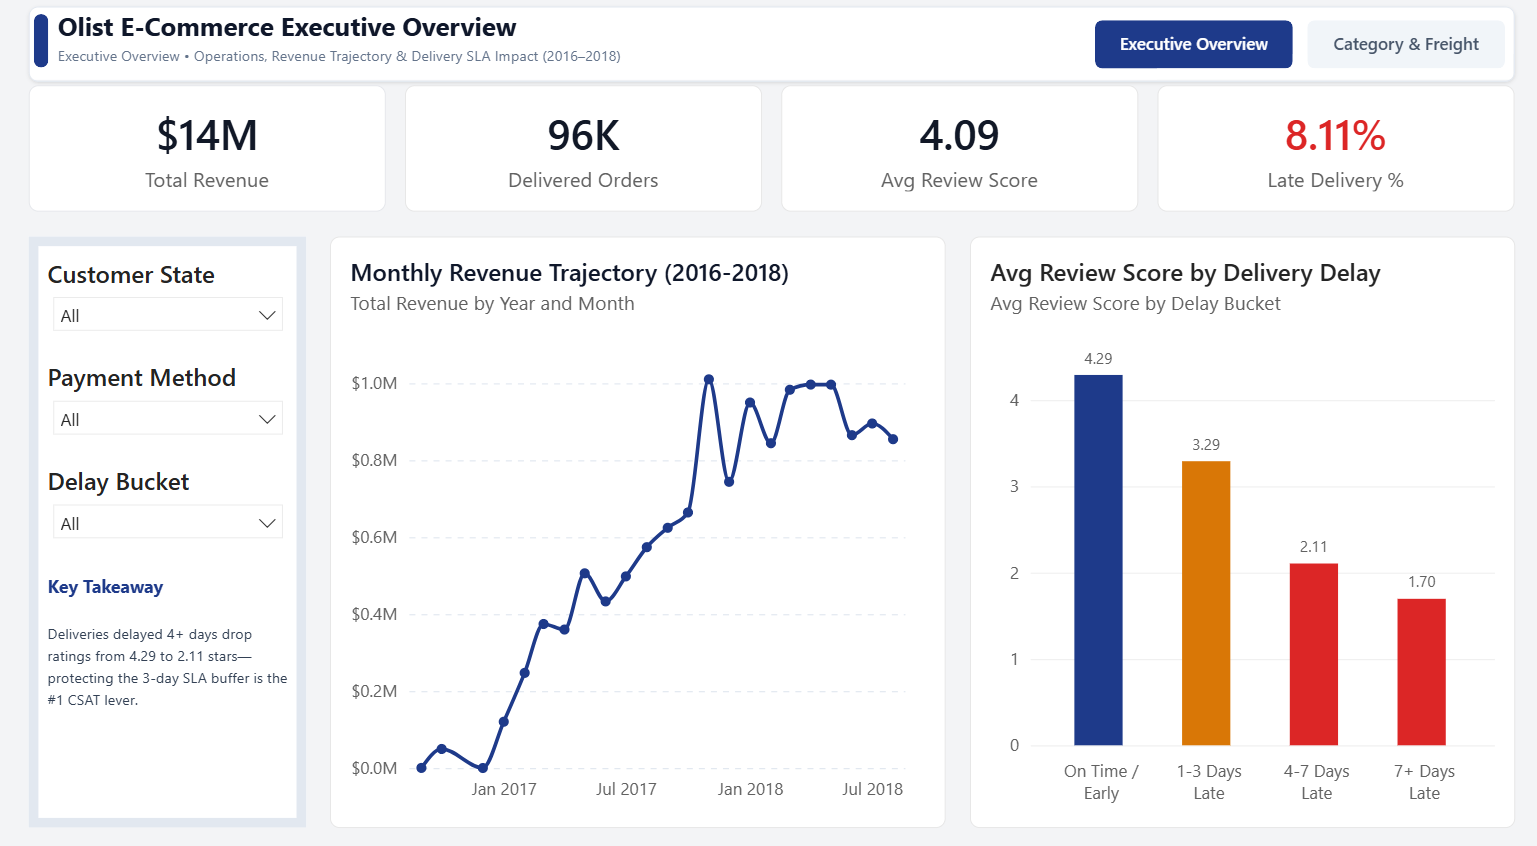

The page's visual inventory and layout, read from the dashboard file:
{"tool":"powerbi","page":{"name":"Executive Overview","canvas":[1280,720],"ordinal":0},"visuals":[{"type":"shape","box":[24,205,230,490],"z":0},{"type":"slicer","title":"Payment Method","fields":{"Values":["order_masters.payment_type"]},"box":[39,308,200,72],"z":1000},{"type":"slicer","title":"Customer State","fields":{"Values":["order_masters.customer_state"]},"box":[39,222,200,72],"z":2000},{"type":"slicer","title":"Delay Bucket","fields":{"Values":["order_masters.Delay Bucket"]},"box":[39,394,200,72],"z":3000},{"type":"shape","box":[24,14,1232,62],"z":4000},{"type":"textbox","box":[27.8,15.5,978.2,60],"z":5000},{"type":"card","fields":{"Values":["_Measures.Total Revenue"]},"box":[24,80,296,105],"z":6000},{"type":"card","fields":{"Values":["_Measures.Delivered Orders"]},"box":[336,80,296,105],"z":7000},{"type":"card","fields":{"Values":["_Measures.Avg Review Score"]},"box":[648,80,296,105],"z":8000},{"type":"card","fields":{"Values":["_Measures.Late Delivery %"]},"box":[960,80,296,105],"z":9000},{"type":"lineChart","title":"Monthly Revenue Trajectory (2016-2018)","fields":{"Category":["order_masters.order_purchase_timestamp.Variation.Date Hierarchy.Year","order_masters.order_purchase_timestamp.Variation.Date Hierarchy.Month"],"Y":["_Measures.Total Revenue"]},"box":[274,205,510,490],"z":10000},{"type":"clusteredColumnChart","title":"Avg Review Score by Delivery Delay","fields":{"Category":["order_masters.Delay Bucket"],"Y":["_Measures.Avg Review Score"]},"box":[804,205,452,490],"z":11000},{"type":"textbox","box":[39,485,200,190],"z":12000},{"type":"shape","box":[27.8,21.1,12.2,44.4],"z":13000},{"type":"pageNavigator","box":[908,26,340,40],"z":14000}]}

Visuals, with their boxes in screenshot pixels (x1, y1, x2, y2), scaled from the page's 1280x720 canvas onto the 1537x846 screenshot:
shape: [x1=29, y1=241, x2=305, y2=817]
"Payment Method" slicer: [x1=47, y1=362, x2=287, y2=446]
"Customer State" slicer: [x1=47, y1=261, x2=287, y2=345]
"Delay Bucket" slicer: [x1=47, y1=463, x2=287, y2=548]
shape: [x1=29, y1=16, x2=1508, y2=89]
textbox: [x1=33, y1=18, x2=1208, y2=89]
card - _Measures.Total Revenue: [x1=29, y1=94, x2=384, y2=217]
card - _Measures.Delivered Orders: [x1=403, y1=94, x2=759, y2=217]
card - _Measures.Avg Review Score: [x1=778, y1=94, x2=1134, y2=217]
card - _Measures.Late Delivery %: [x1=1153, y1=94, x2=1508, y2=217]
"Monthly Revenue Trajectory (2016-2018)" lineChart: [x1=329, y1=241, x2=941, y2=817]
"Avg Review Score by Delivery Delay" clusteredColumnChart: [x1=965, y1=241, x2=1508, y2=817]
textbox: [x1=47, y1=570, x2=287, y2=793]
shape: [x1=33, y1=25, x2=48, y2=77]
pageNavigator: [x1=1090, y1=31, x2=1499, y2=78]
